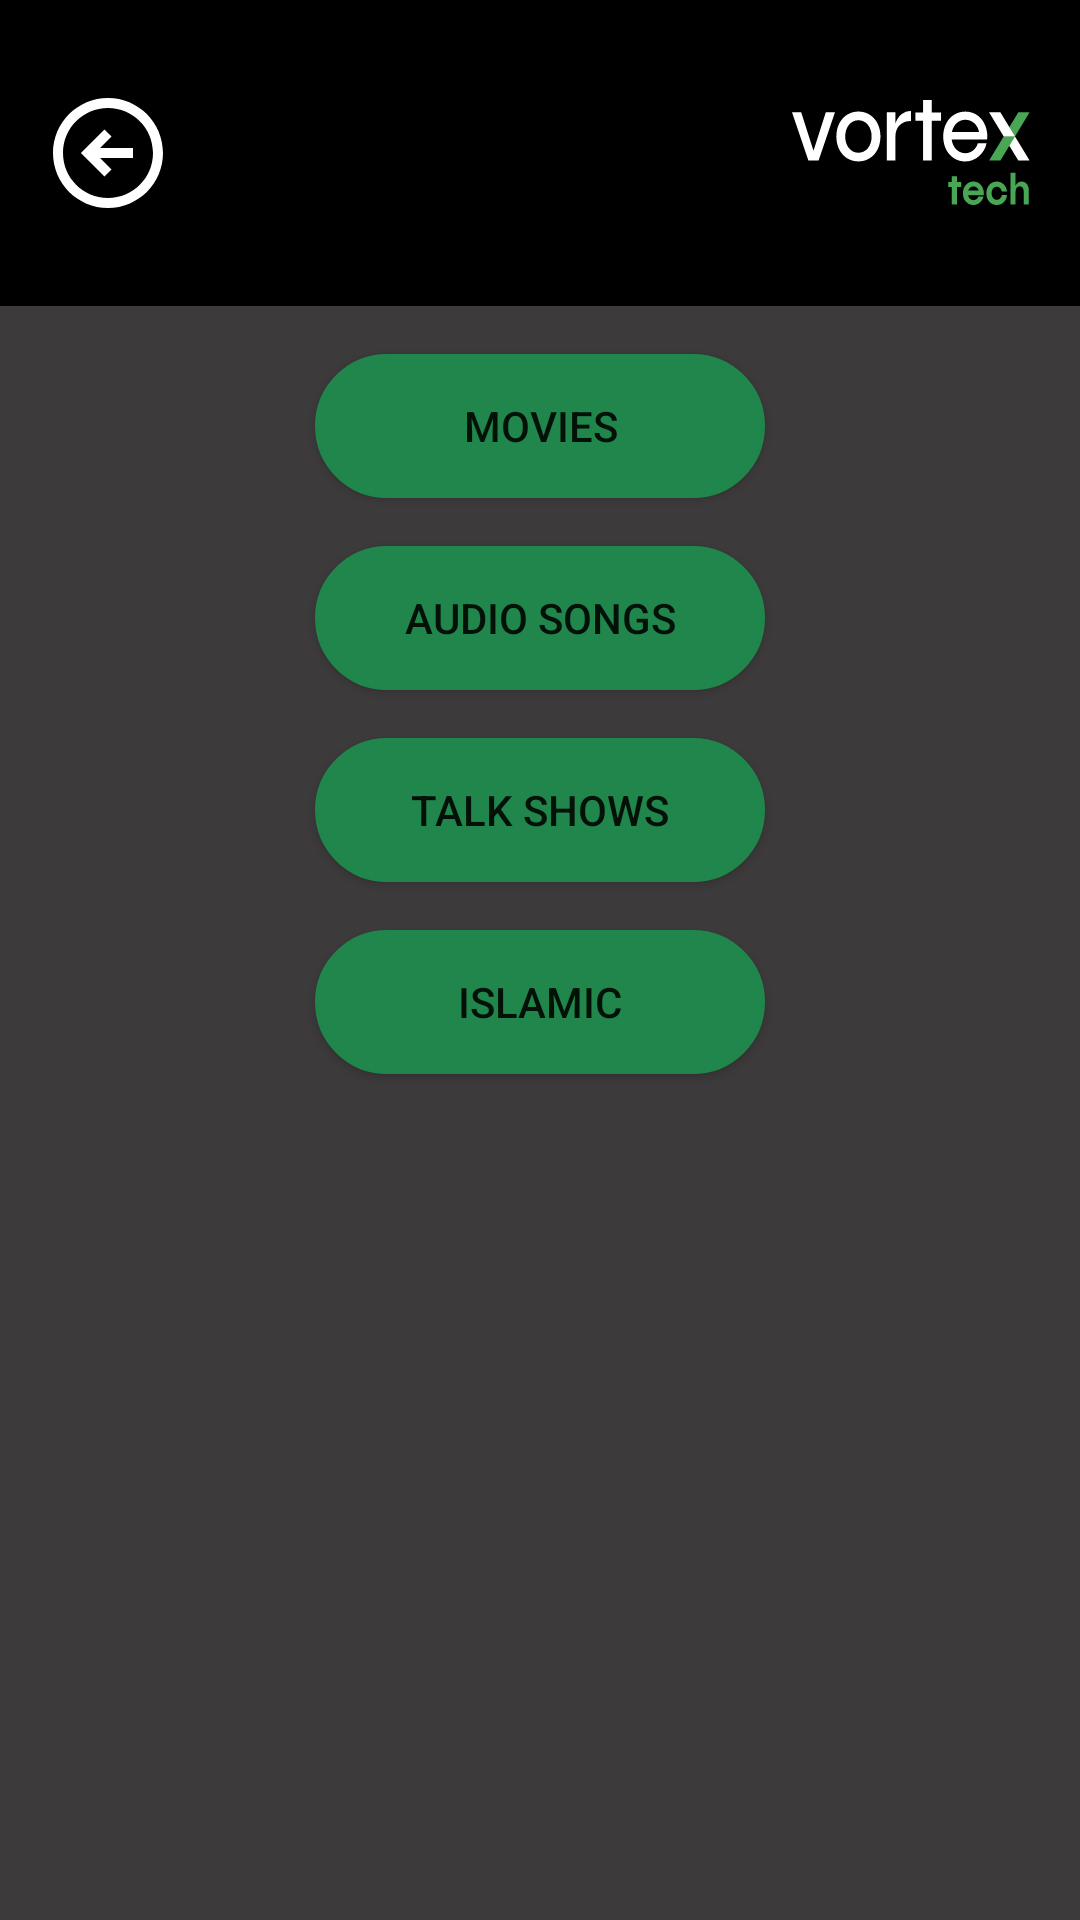

Screen size 1080px×1920px. Icon name, then its box in pixels as box=[x1, y1, x2, y2]:
circle arrow left: box=[53, 98, 163, 208]
